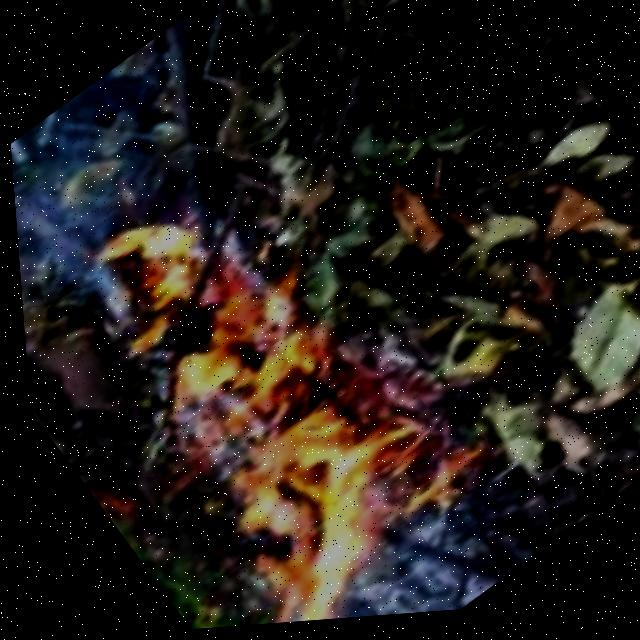Fire: (109, 331, 468, 635), (68, 164, 349, 475)
